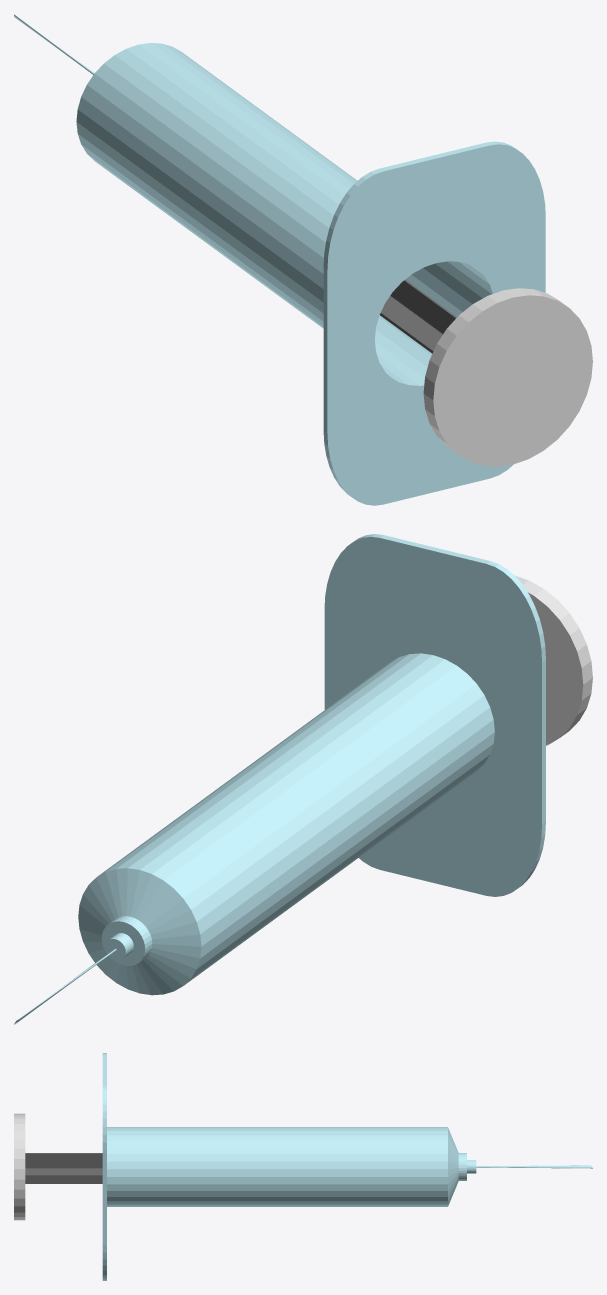
File: Syringe.fbx
3 renders of one model, top to bottom at view 1: azimuth 30°, elevation 25°; view 2: azimuth 150°, elevation 25°; view 3: azimuth 270°, elevation 25°, orthographic. The views are drawn at different scales.
Visible parts, largest first — view 1: Circle, Circle.001, Plane; view 2: Circle, Circle.001; view 3: Circle, Plane, Circle.001.
Part boxes in pixels (x1,y1,x2,y2): Circle: (14,14,545,505); Circle.001: (423,288,592,466); Plane: (380,279,456,353); Circle: (14,534,545,1024); Circle.001: (515,575,592,745); Circle: (102,1053,592,1280); Plane: (25,1153,102,1183); Circle.001: (14,1113,25,1220).
Size of the model in its own units: 23.87 by 34.8 by 94.71.
